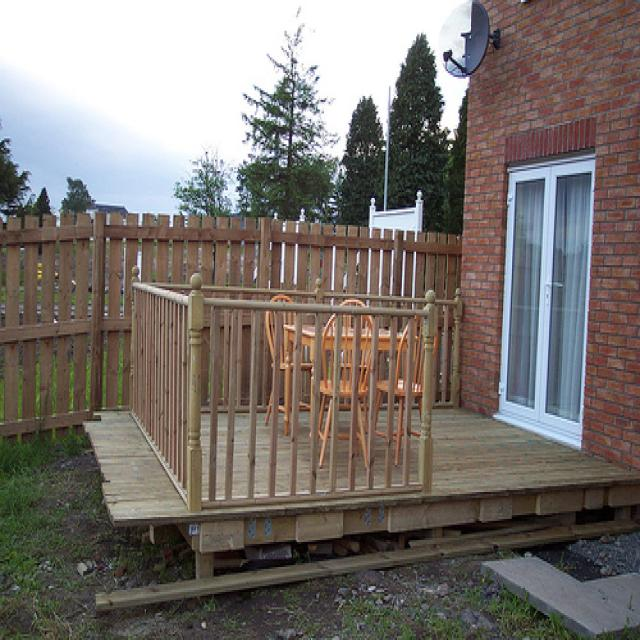chair: (318, 297, 375, 472), (376, 312, 439, 468), (265, 291, 315, 437)
diningtable: (283, 322, 420, 447)
